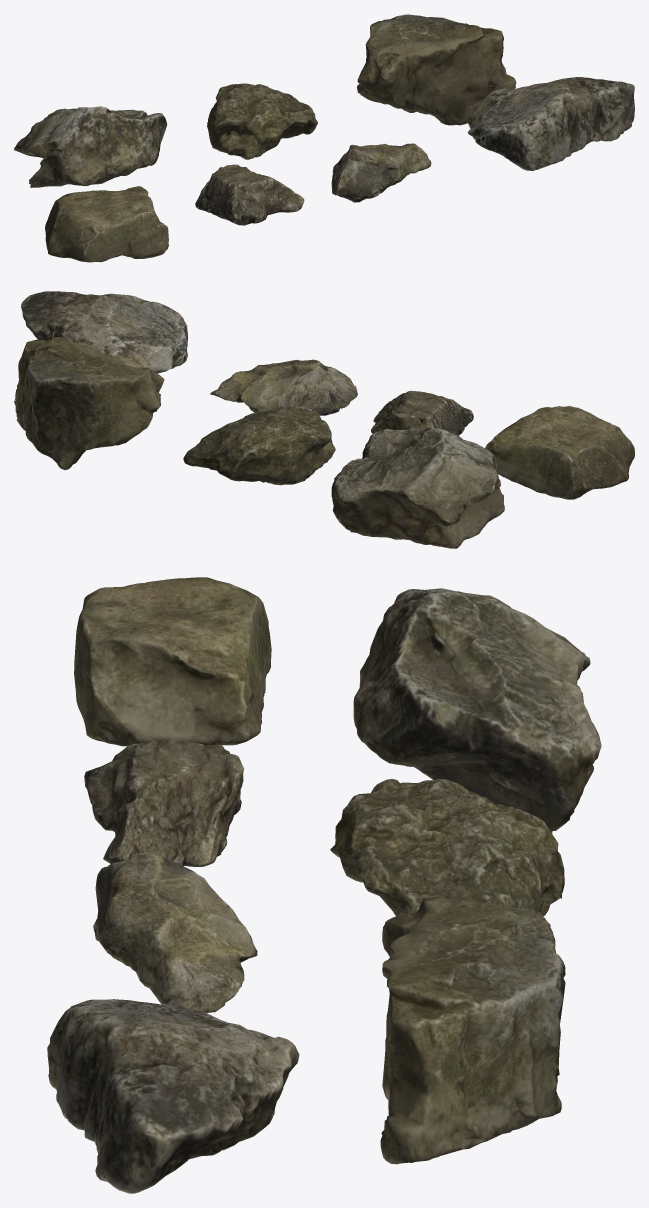
File: mossy_rocks_b.glb
3 views of the same model, one above another, from view 1: azimuth 30°, elevation 25°; view 2: azimuth 150°, elevation 25°; view 3: azimuth 270°, elevation 25° (orthographic). The views are drawn at different scales.
Parts seen in each view (by area): view 1: rock_moss_set_02_rock08; view 2: rock_moss_set_02_rock08; view 3: rock_moss_set_02_rock08.
Part boxes in pixels (x1=…): rock_moss_set_02_rock08: x1=14, y1=14, x2=634, y2=262; rock_moss_set_02_rock08: x1=14, y1=291, x2=634, y2=548; rock_moss_set_02_rock08: x1=47, y1=577, x2=601, y2=1193.
Size of the model in its own units: 8.28 by 1.37 by 3.41.
Materials: 1 (1 with a texture image).
